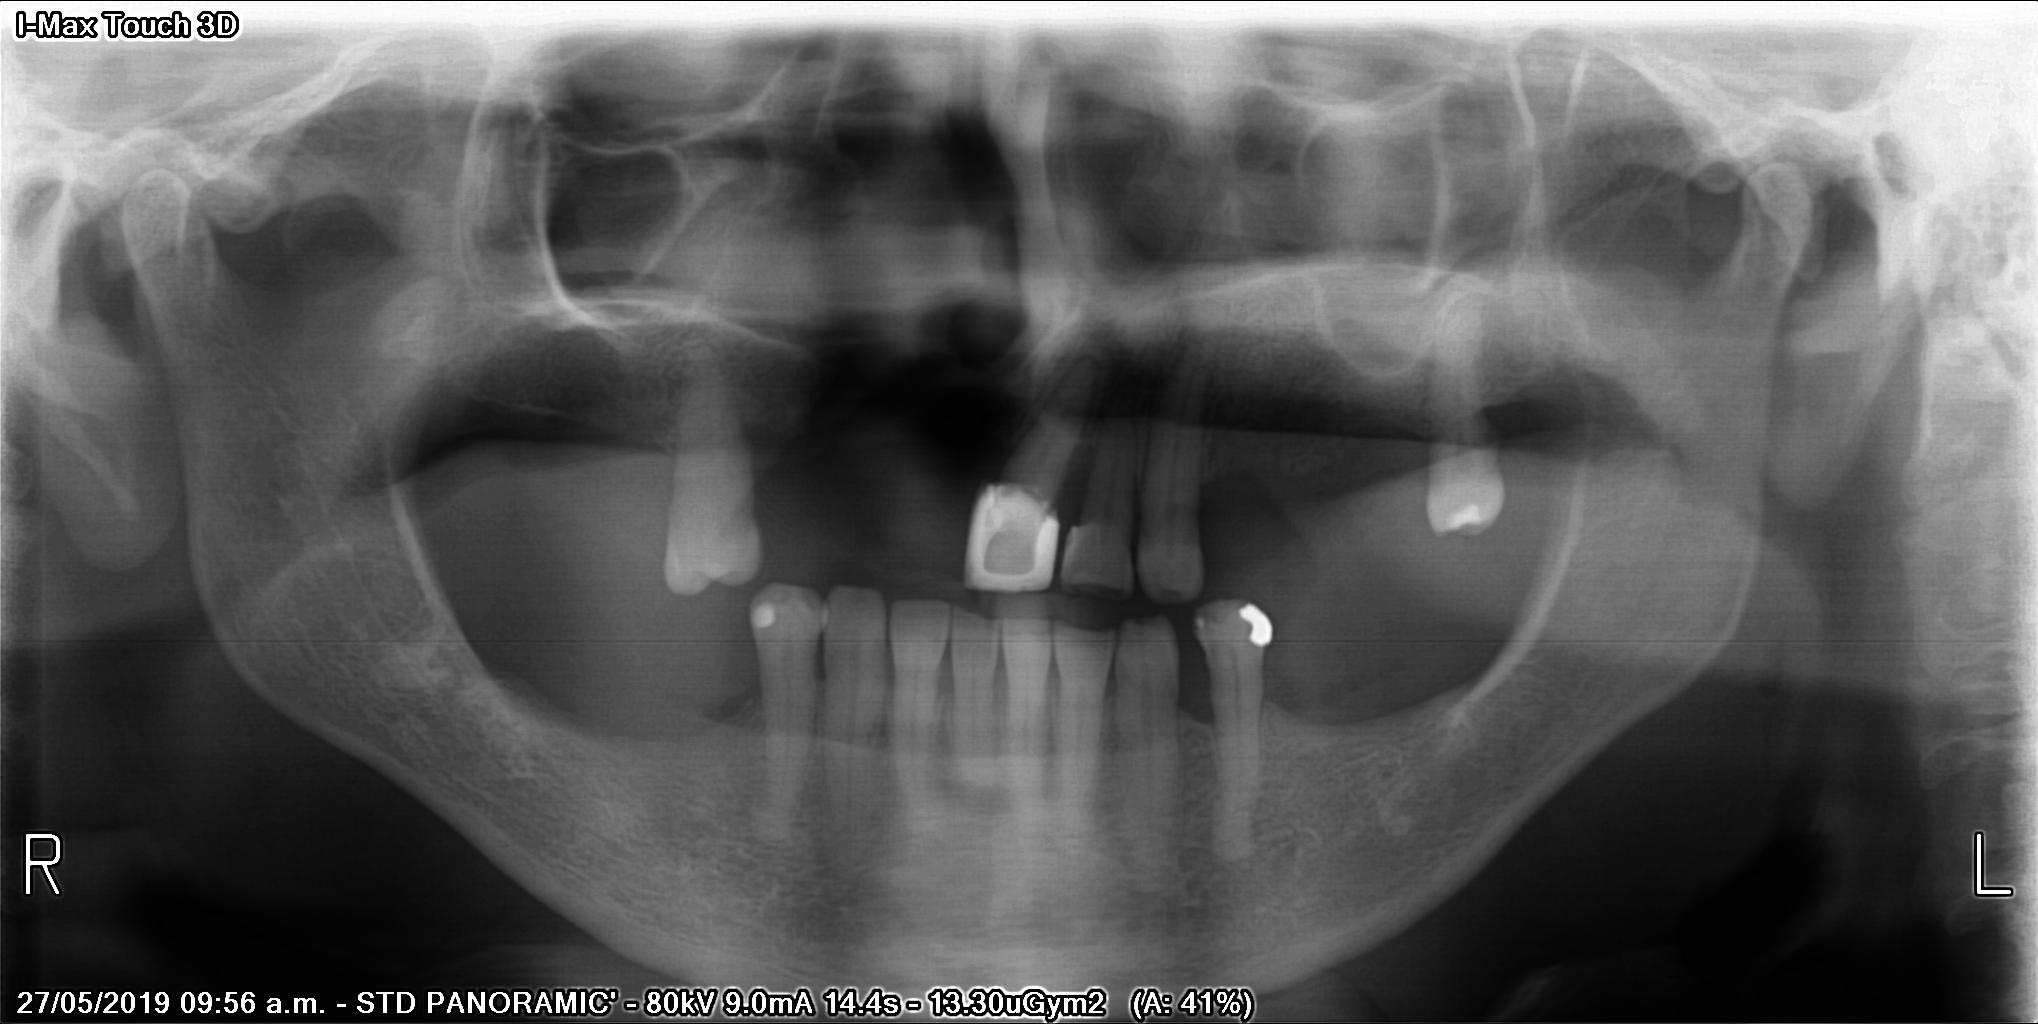Çürük: (953, 468, 1058, 606), (1230, 597, 1278, 660), (1447, 508, 1491, 543), (743, 603, 779, 632)
